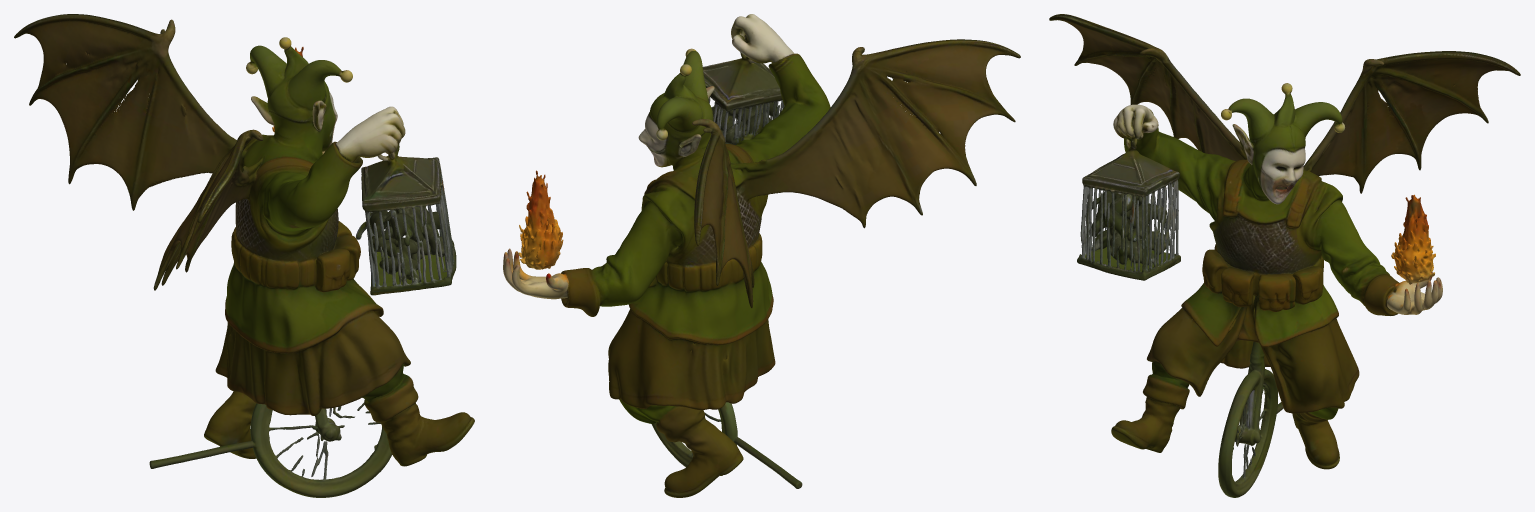
3 renders of one model, left to right at view 1: azimuth 30°, elevation 25°; view 2: azimuth 150°, elevation 25°; view 3: azimuth 270°, elevation 25°, orthographic. The views are drawn at different scales.
Parts seen in each view (by area): view 1: tripo_node_554c6f86-9bb9-4d74-ad94-7edb026cc99e; view 2: tripo_node_554c6f86-9bb9-4d74-ad94-7edb026cc99e; view 3: tripo_node_554c6f86-9bb9-4d74-ad94-7edb026cc99e.
Part boxes in pixels (bbox=[...]): tripo_node_554c6f86-9bb9-4d74-ad94-7edb026cc99e: bbox=[14, 14, 474, 497]; tripo_node_554c6f86-9bb9-4d74-ad94-7edb026cc99e: bbox=[503, 14, 1020, 497]; tripo_node_554c6f86-9bb9-4d74-ad94-7edb026cc99e: bbox=[1049, 14, 1520, 497].
Size of the model in its own units: 0.7565 by 0.9401 by 1.
1 material, 1 textured.
